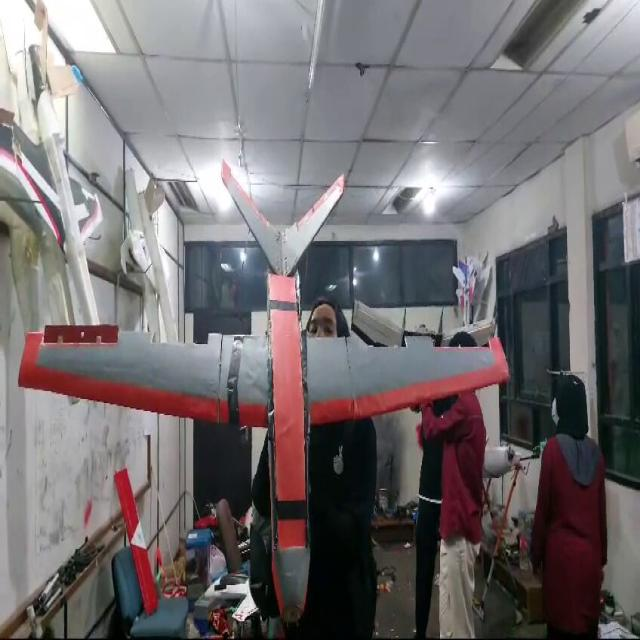plane: (17, 157, 511, 636)
